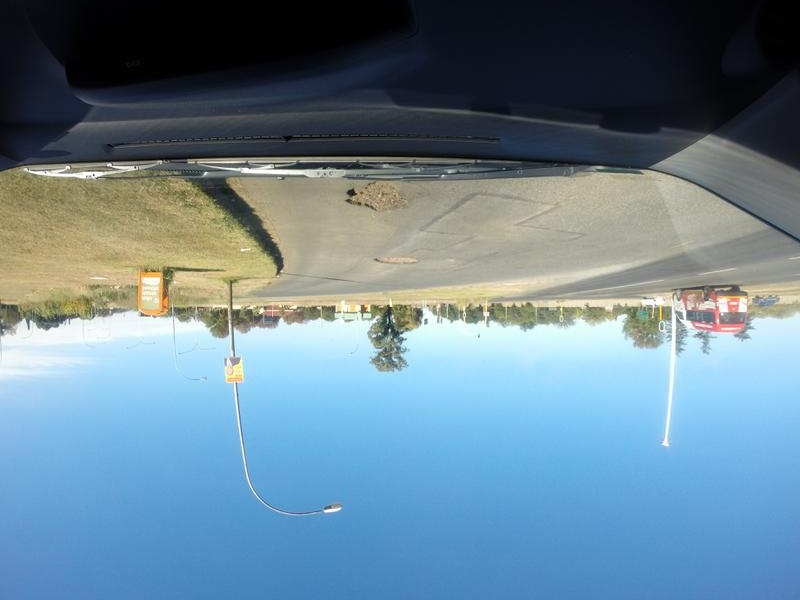pothole: (333, 182, 433, 220), (369, 249, 422, 268)
